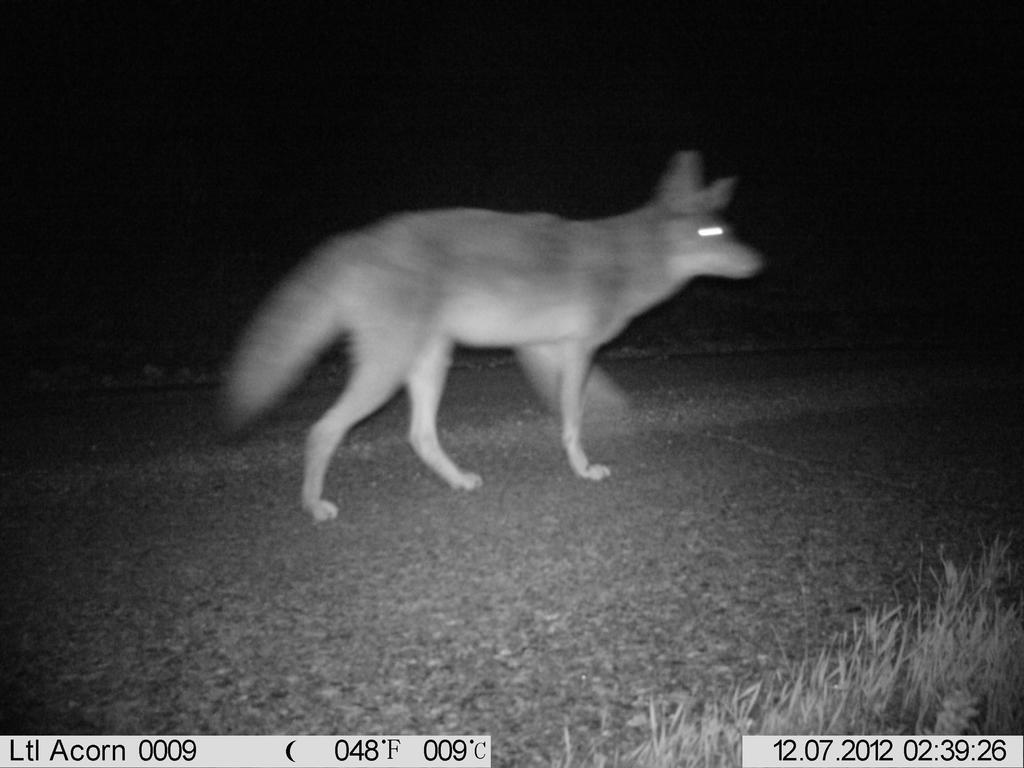coyote: (215, 143, 771, 525)
